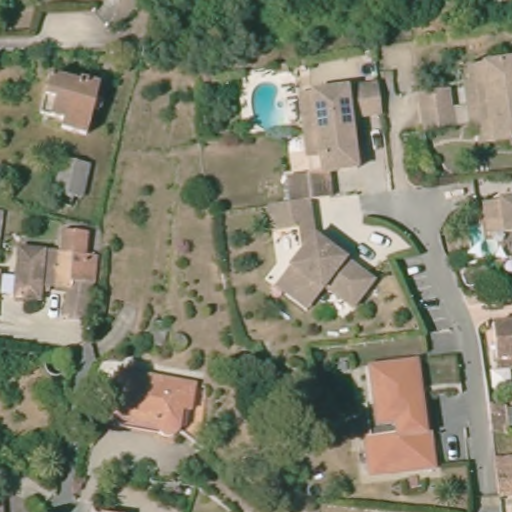pool: (245, 74, 292, 140)
